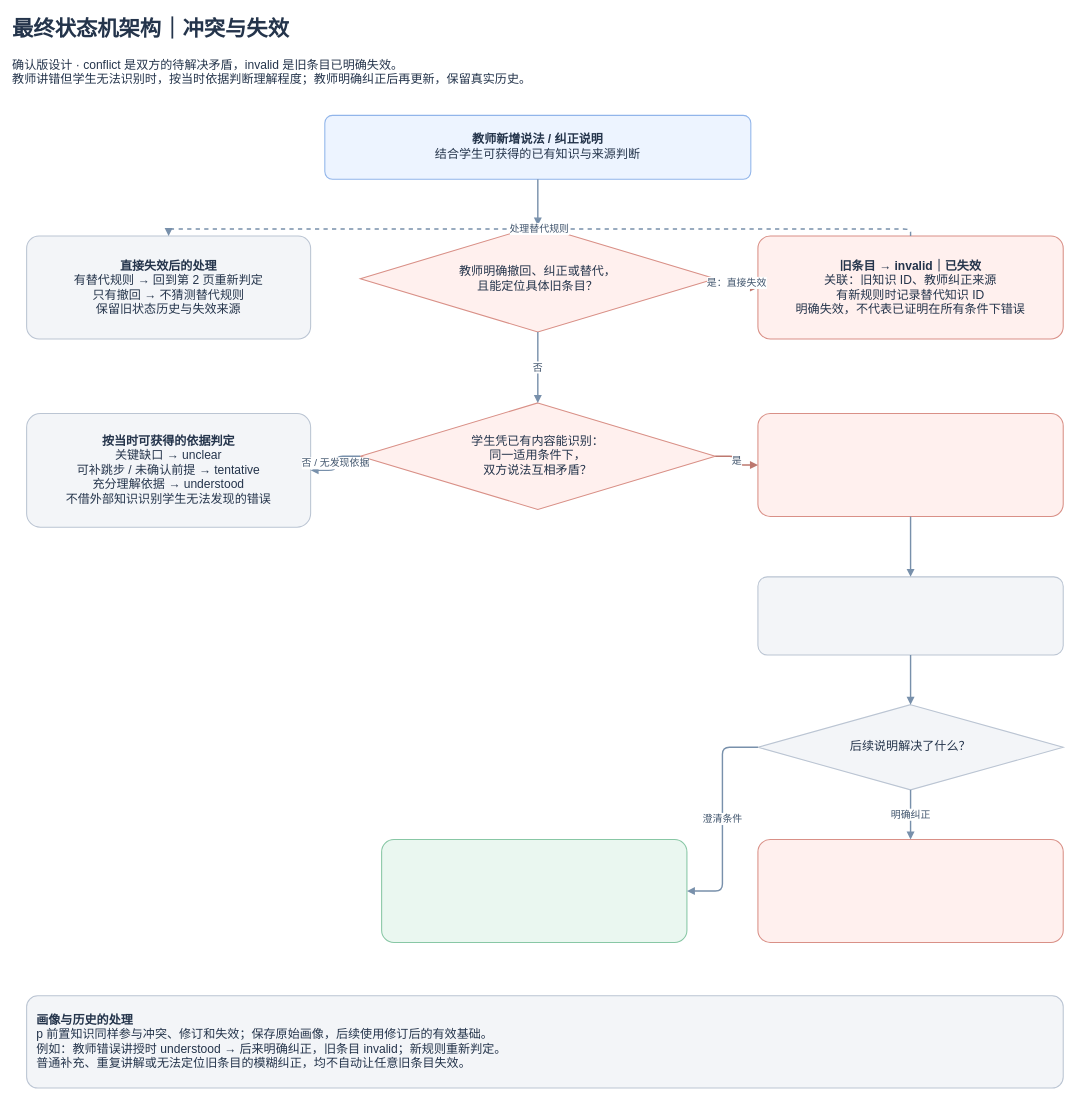
Some shapes in this 1089 by 1101 pixel diagram are drawn without their labels. Each missing label, with the centre of its shape:
"conflict｜双方矛盾部分暂停 关联双方 p / k、来源、条件及具体矛盾 双方矛盾部分均不能作确定前提 其余部分保留；后说的也不自动优先" goes at (910,465).
"教师后续澄清 尚未澄清：保持 conflict 普通补充或重复讲解不能触发 invalid" goes at (910,615).
"明确纠正其中一条 被纠正旧条目 → invalid 其余保留 / 修订规则重新判定 新规则不自动 understood" goes at (910,891).
"适用条件不同 修订范围，双方都可能保留 消除矛盾后，分别重新判定 不因范围扩展就自动失效" goes at (534,891).
